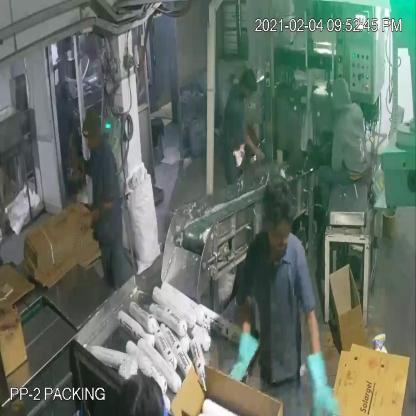glove: (298, 344, 347, 416), (227, 324, 265, 390)
no_glove: (72, 192, 121, 242), (239, 120, 267, 172), (0, 292, 28, 338)
